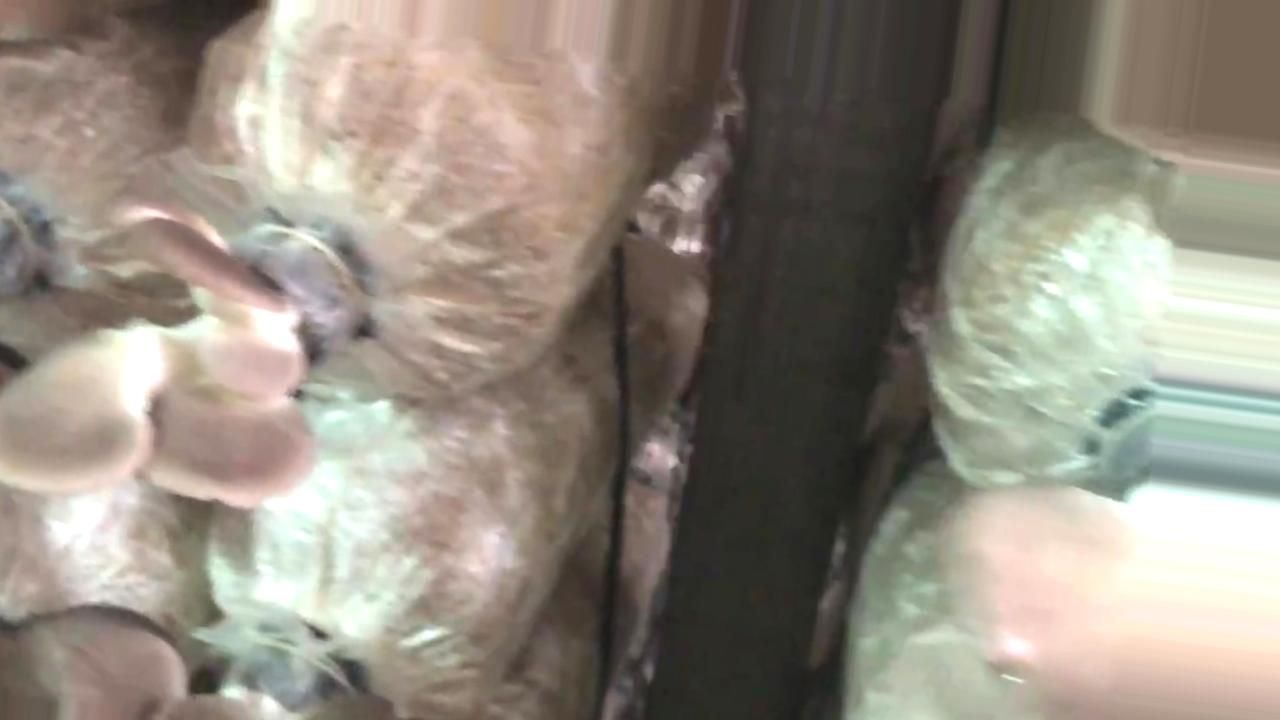nam: (1, 207, 368, 507), (939, 456, 1280, 714), (1, 610, 407, 715), (1082, 1, 1277, 182)
